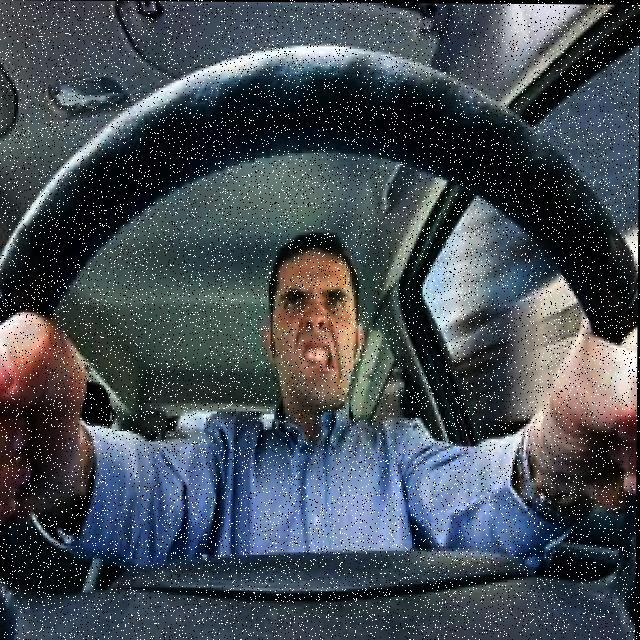noSeatbelt: (185, 338, 448, 580)
